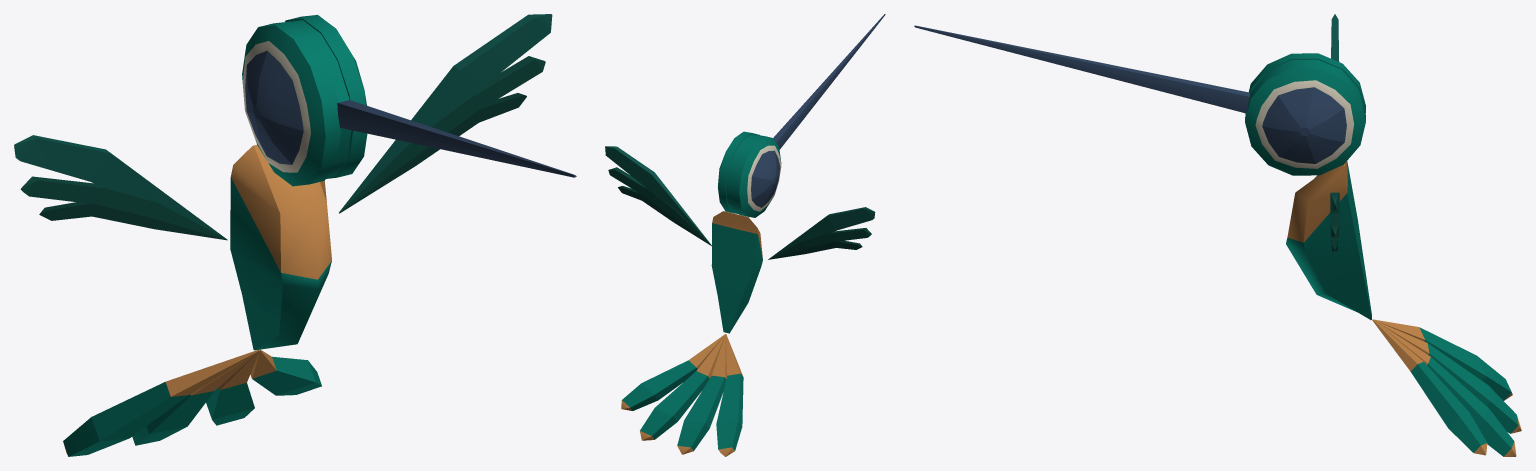
The model's file is Beija_Flor.fbx.
The picture shows the model from 3 angles, left to right: view 1: azimuth 30°, elevation 25°; view 2: azimuth 150°, elevation 25°; view 3: azimuth 270°, elevation 25°; orthographic projection. The views are drawn at different scales.
Visible parts, largest first — view 1: pCylinder1, pCube1, pCube6 (×2), pCube7 (×2), pCube2, pCube8 (×2), pCube5, pCube3, pCube4; view 2: pCylinder1, pCube1, pCube6 (×2), pCube4, pCube3, pCube2, pCube5, pCube7 (×2), pCube8 (×2); view 3: pCylinder1, pCube1, pCube5, pCube4, pCube3, pCube2.
Part boxes in pixels (x1,y1,x2,y2): pCylinder1: (242,14,576,186); pCube1: (230,145,331,350); pCube6 (×2): (14,14,552,239); pCube7 (×2): (20,56,545,240); pCube2: (63,350,259,456); pCube8 (×2): (39,93,526,240); pCube5: (250,349,321,395); pCube3: (132,350,259,445); pCube4: (206,351,259,425); pCylinder1: (718,14,885,217); pCube1: (711,211,762,333); pCube6 (×2): (605,146,875,259); pCube4: (640,334,725,440); pCube3: (677,334,727,454); pCube2: (716,334,743,456); pCube5: (621,334,725,410); pCube7 (×2): (608,167,871,259); pCube8 (×2): (618,186,862,259); pCylinder1: (914,25,1365,175); pCube1: (1286,161,1371,319); pCube5: (1372,320,1487,455); pCube4: (1374,320,1516,456); pCube3: (1374,320,1521,433); pCube2: (1372,319,1512,400).
Bounding box in the file's own units: 549 × 553 × 742.
